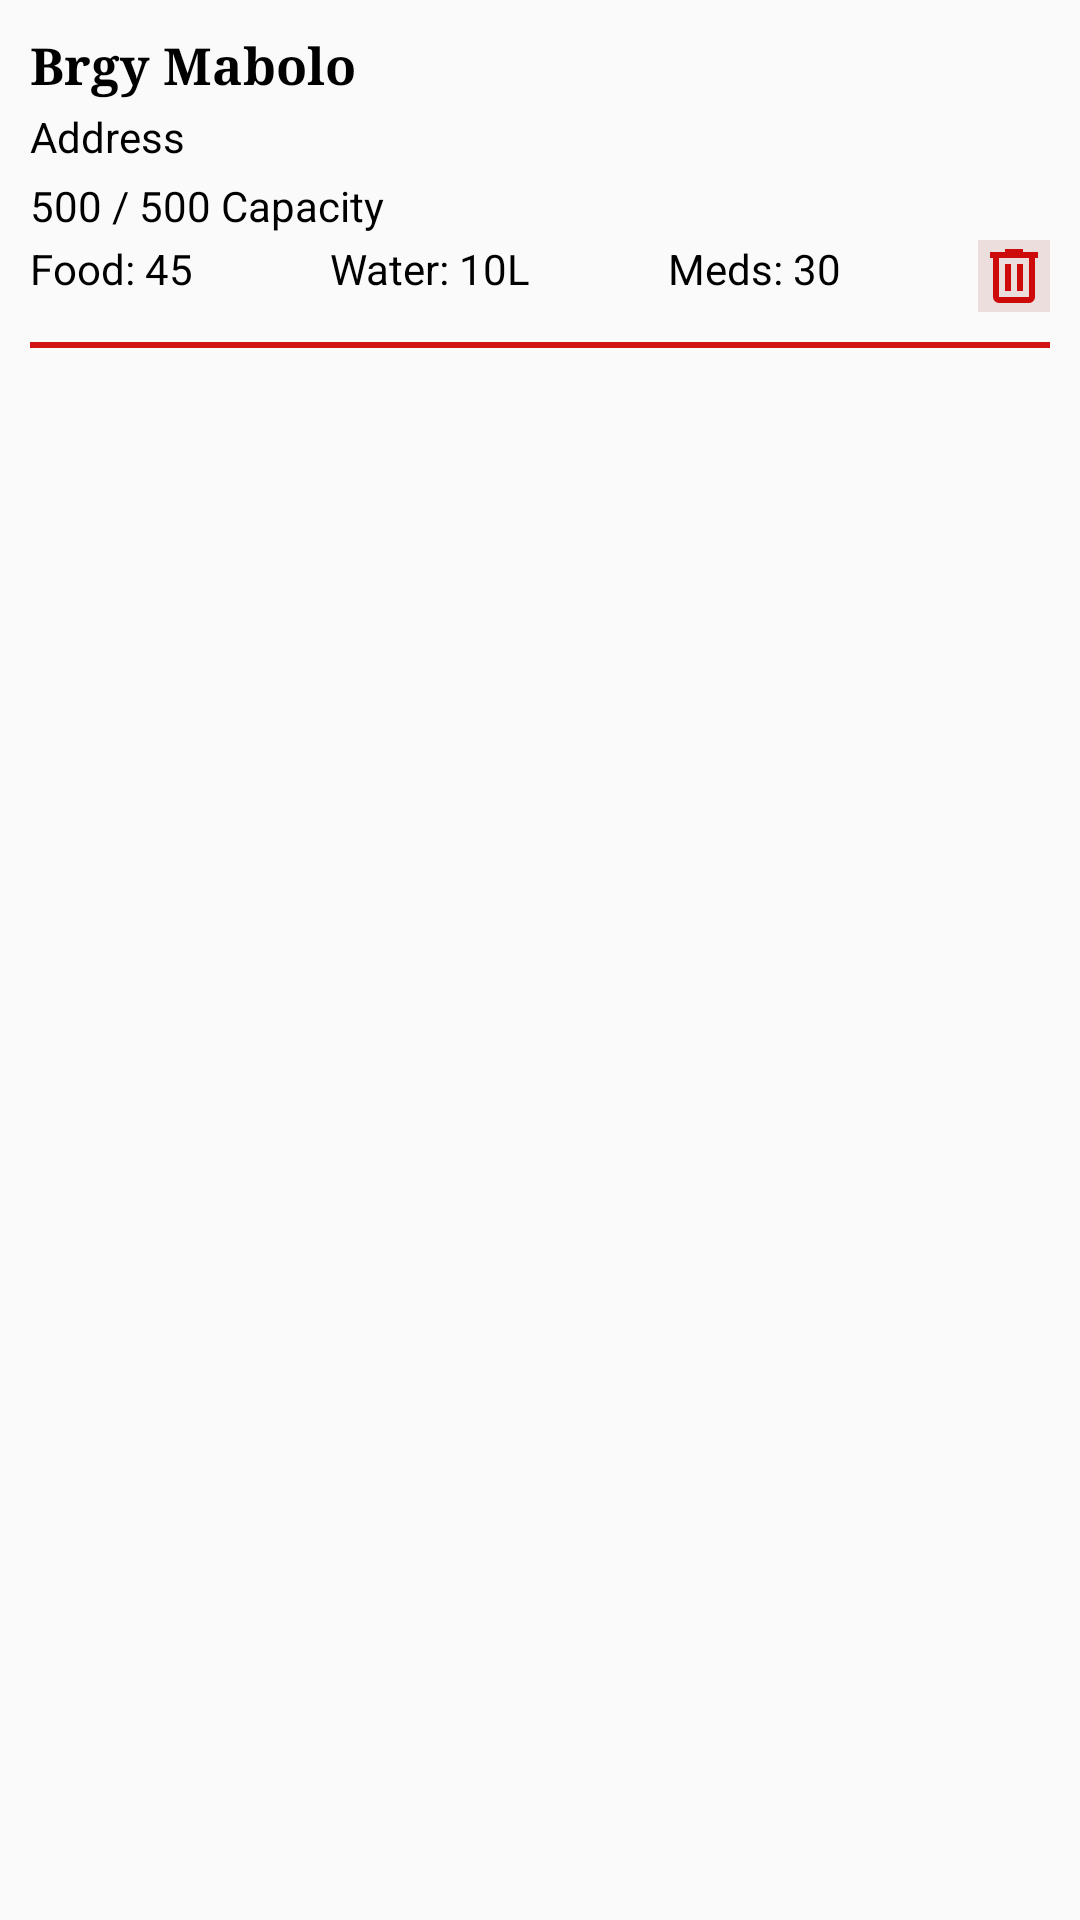

Named icons in this screenshot (1080w x 1920h) and their centers, point (x, y):
delete: point (1014, 276)
